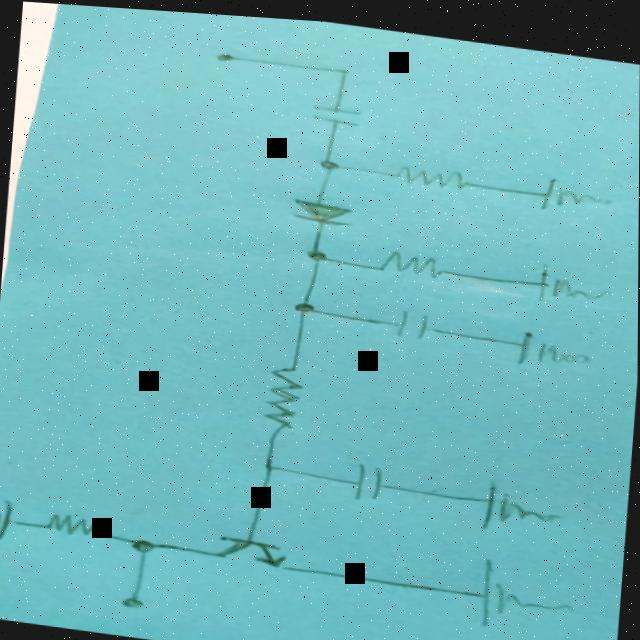capacitor: (347, 455, 389, 498), (387, 300, 433, 335), (312, 97, 358, 122)
diode: (288, 192, 349, 221)
ground: (466, 549, 583, 632), (468, 470, 569, 533), (520, 254, 612, 301), (504, 321, 596, 366), (532, 166, 617, 211)
junction: (123, 532, 156, 553), (301, 240, 330, 261), (312, 149, 341, 168), (288, 294, 317, 312), (256, 454, 285, 471), (327, 60, 354, 75)
resistor: (257, 357, 305, 426), (374, 242, 449, 274), (389, 156, 466, 184), (40, 510, 102, 538)
source: (0, 496, 18, 537)
terminal: (117, 589, 151, 609), (210, 46, 241, 62)
transistor: (209, 529, 291, 569)
